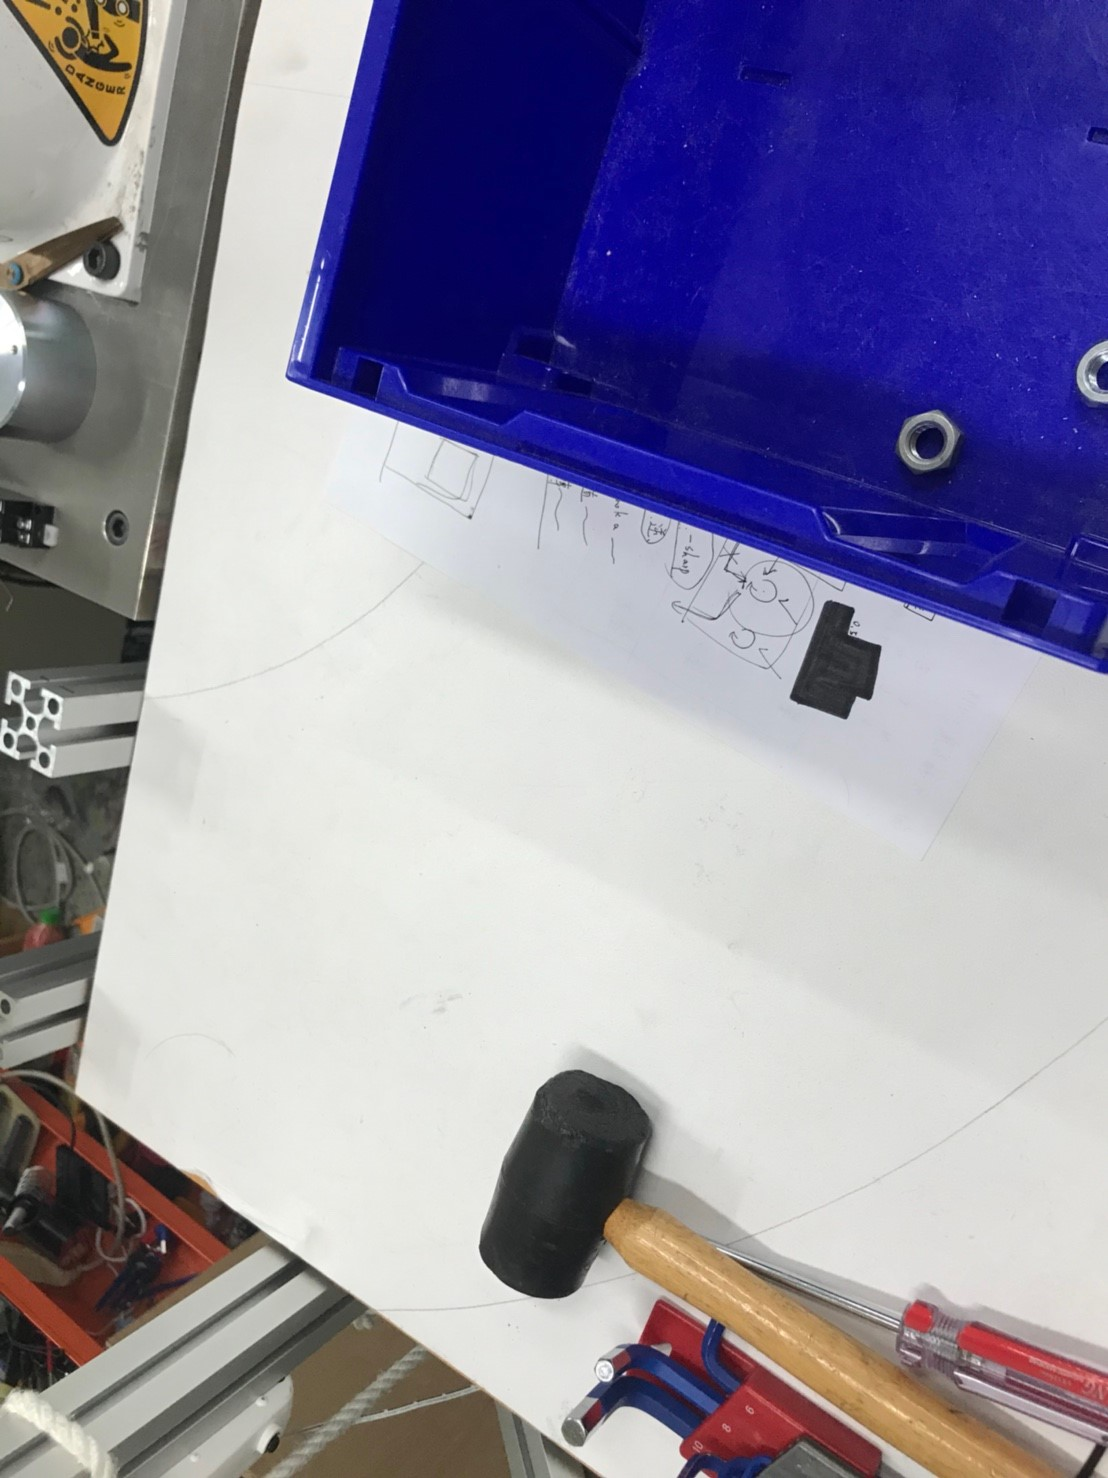nut: (894, 406, 966, 470), (1077, 342, 1108, 399)
